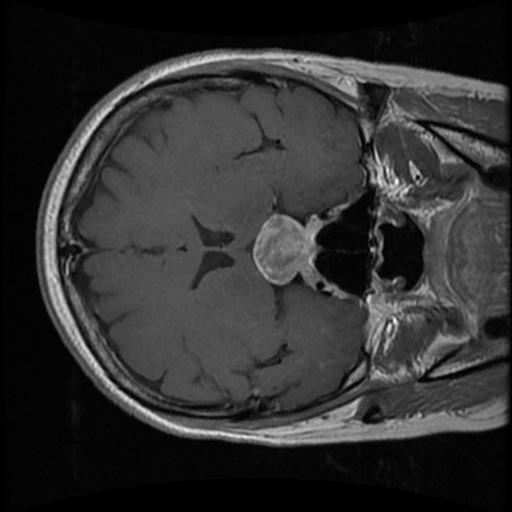pituitary tumour: (250, 214, 323, 288)
